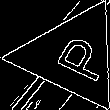P_NW: (37, 28, 107, 85)
